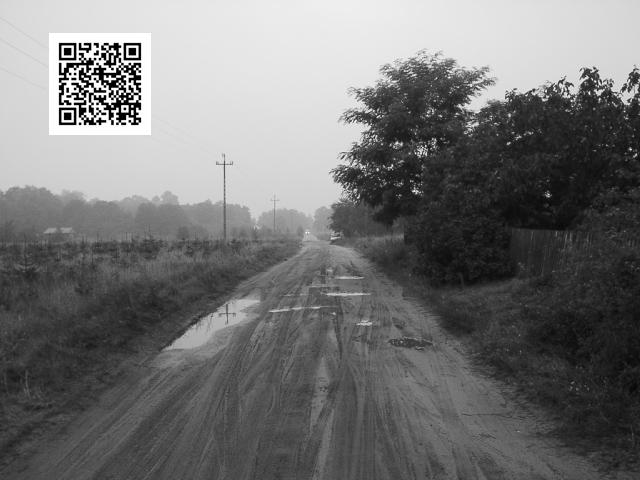qr_code: (49, 32, 150, 136)
